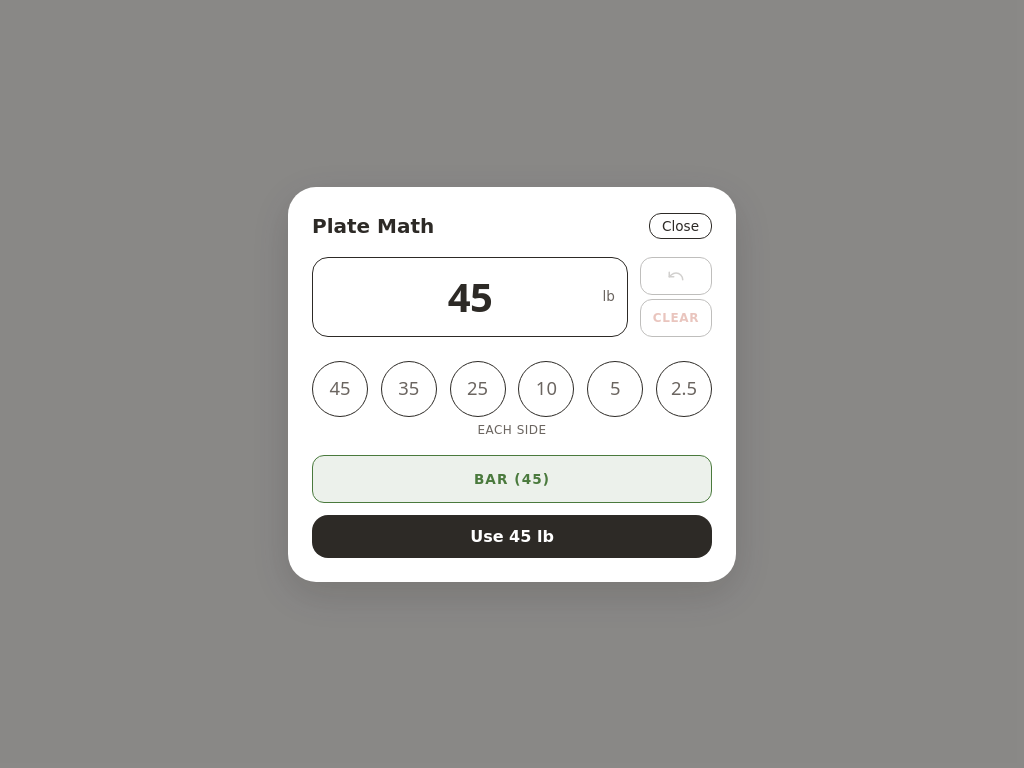
Scenario: PlateCalculator › cycleBarWeight › cycles through bar weights
Click the button with class "bar-weight-btn" at (512, 478), box [312, 454, 712, 502]
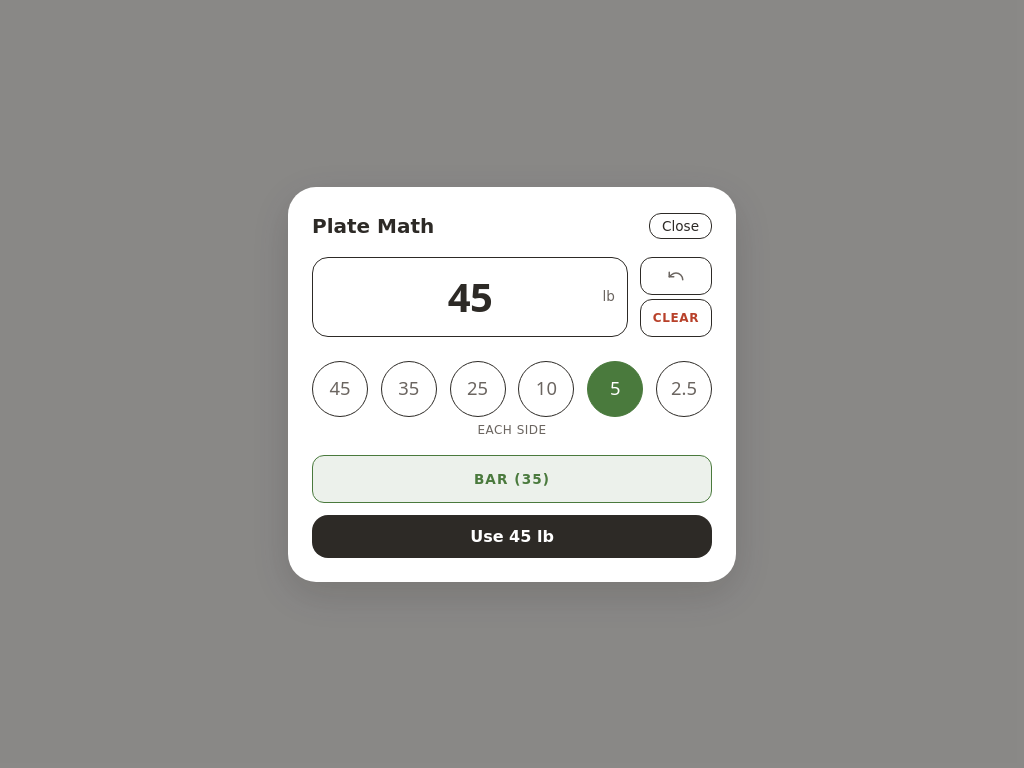
Expected: the button with class "bar-weight-btn" reads "BAR (35)"
Click the button with class "bar-weight-btn" at (512, 478), box [312, 454, 712, 502]
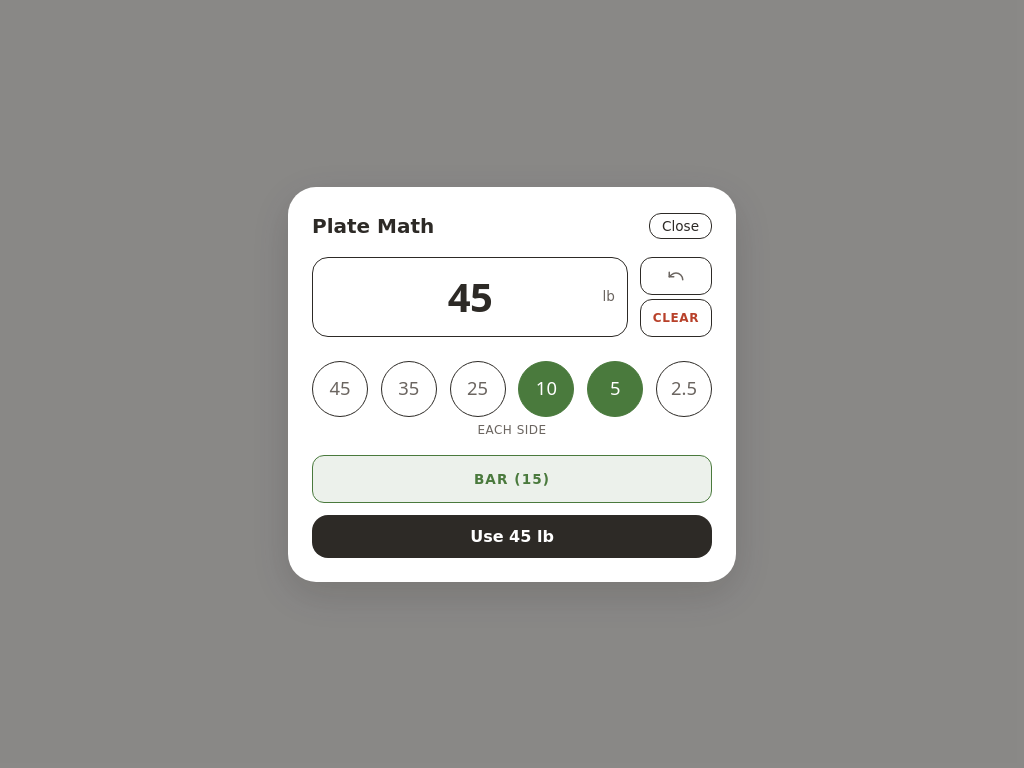
Expected: the button with class "bar-weight-btn" reads "BAR (15)"
Click the button with class "bar-weight-btn" at (512, 478), box [312, 454, 712, 502]
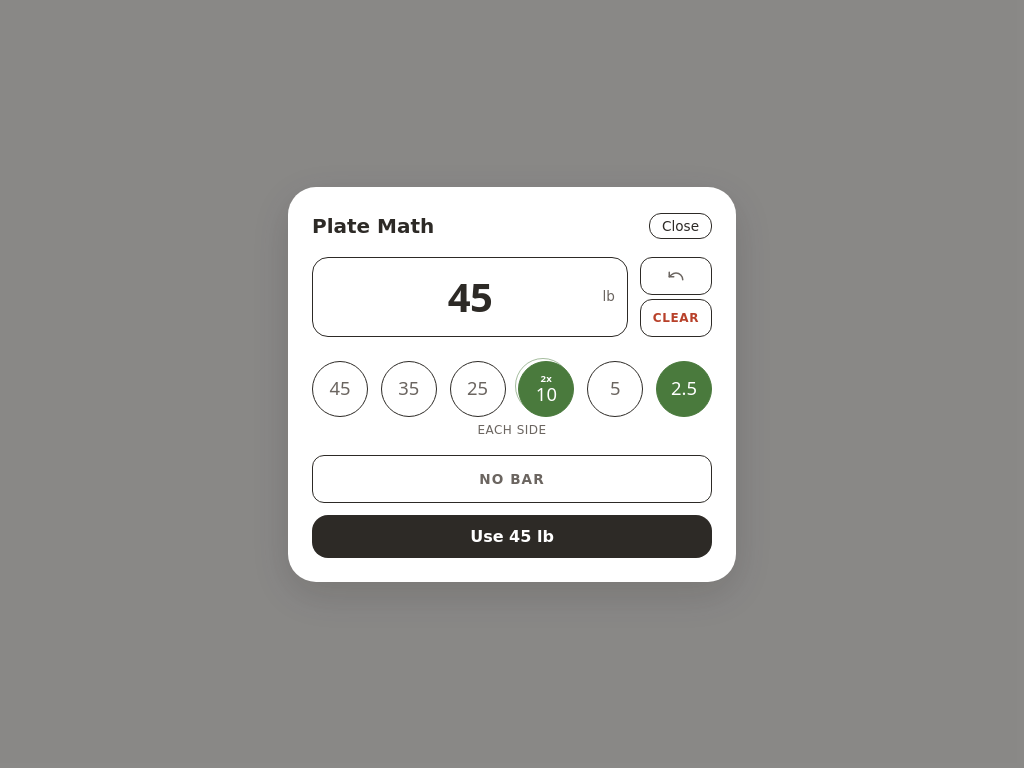
Expected: the button with class "bar-weight-btn" reads "NO BAR"
Click the button with class "bar-weight-btn" at (512, 478), box [312, 454, 712, 502]
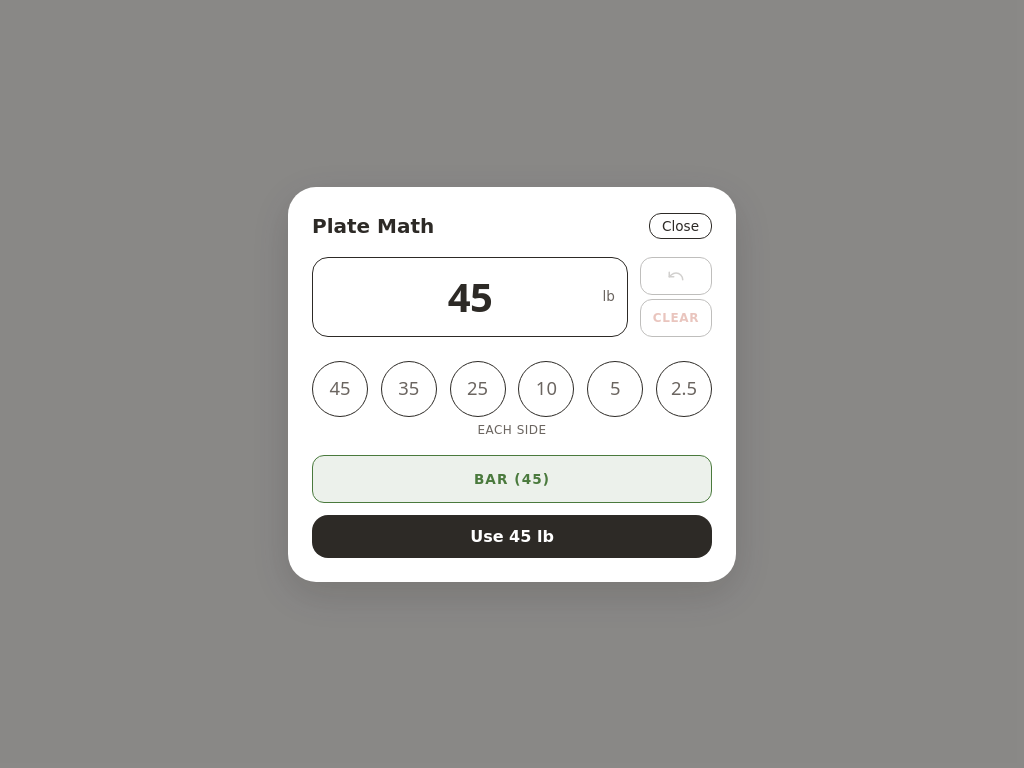
Expected: the button with class "bar-weight-btn" reads "BAR (45)", [312, 454, 712, 502]
